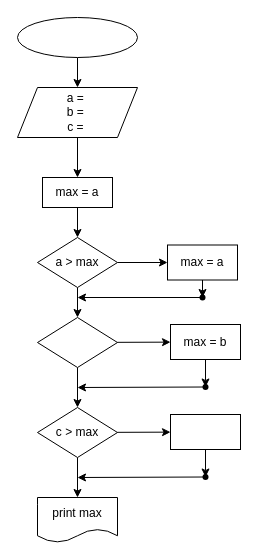
This 258x560 diagram has some shape labels left out. Each missing label, with the box of its shape:
b > max: (36, 316, 118, 368)
max = c: (170, 414, 240, 450)
start: (16, 16, 138, 58)
